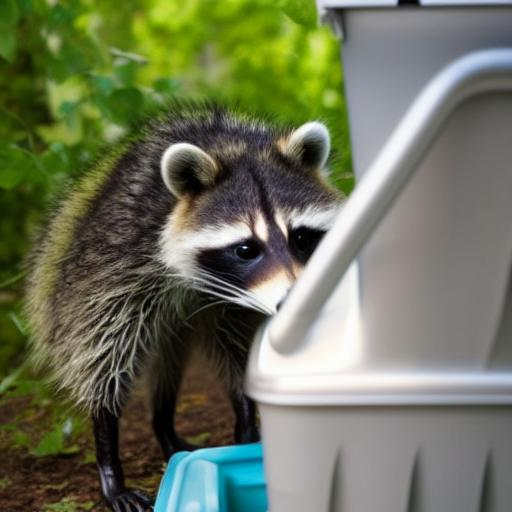raccoon: (8, 86, 360, 418)
